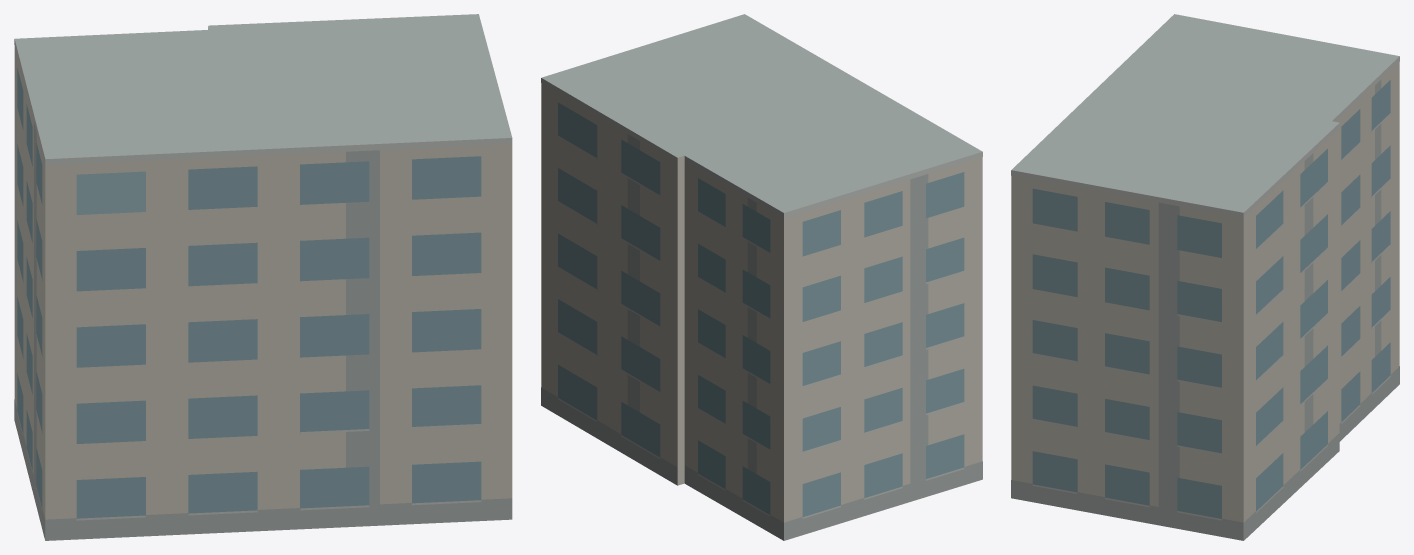
Rendered from survey-upis-32691732.glb.
3 renders of one model, left to right at view 1: azimuth 30°, elevation 25°; view 2: azimuth 150°, elevation 25°; view 3: azimuth 270°, elevation 25°, orthographic. The views are drawn at different scales.
Parts seen in each view (by area): view 1: survey-upis-32691732.tmp; view 2: survey-upis-32691732.tmp; view 3: survey-upis-32691732.tmp.
Boxes of the visible parts, box(x1,y1,x2,y2) form: survey-upis-32691732.tmp: box(14, 14, 512, 540); survey-upis-32691732.tmp: box(541, 14, 982, 540); survey-upis-32691732.tmp: box(1011, 14, 1399, 540).
Bounding box in the file's own units: 19.24 × 14.8 × 15.89.
